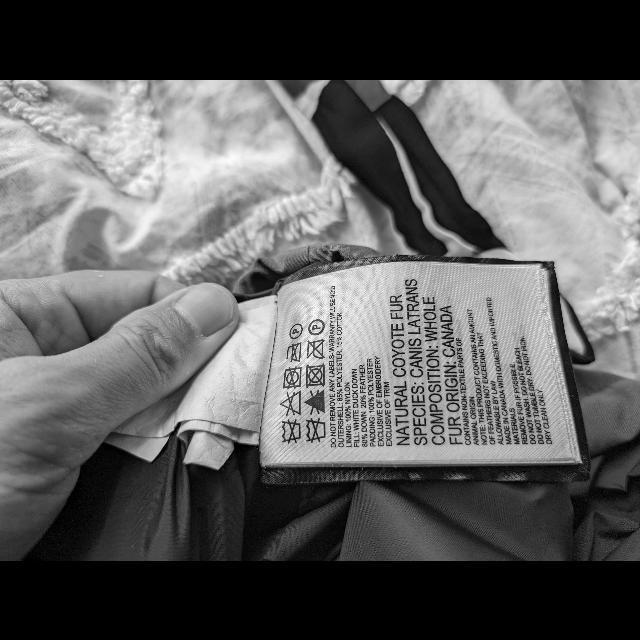DN_bleach: (303, 388, 327, 416), (280, 389, 304, 416)
DN_iron: (306, 339, 326, 361), (286, 341, 302, 363)
DN_tumble_dry: (282, 364, 302, 390), (305, 363, 325, 389)
DN_wash: (304, 417, 326, 445), (280, 418, 302, 444)
normal_dry_clean_solvents: (306, 318, 326, 337), (288, 322, 304, 340)
